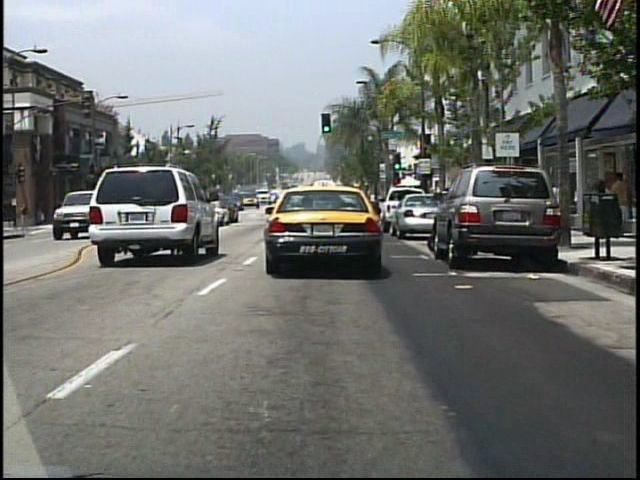person: (596, 181, 616, 242), (612, 171, 633, 202)
